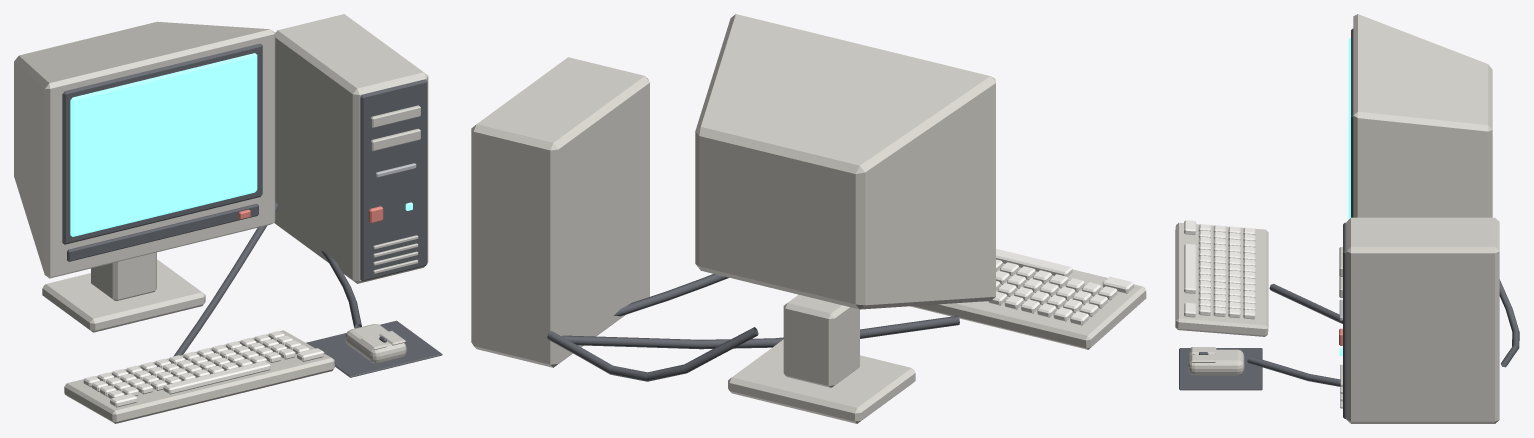
The model's file is Computer.fbx.
3 renders of one model, left to right at view 1: azimuth 30°, elevation 25°; view 2: azimuth 150°, elevation 25°; view 3: azimuth 270°, elevation 25°, orthographic. The views are drawn at different scales.
Visible parts, largest first — view 1: Monitor_Screen, Monitor_Body, Tower_Body, Tower_Front, Keyboard_Keys, Monitor_Base, Keyboard_Base, Monitor_Bezel, Mouse_Pad, Monitor_Strip, Monitor_Neck, Mouse_Body (+4 smaller); view 2: Monitor_Body, Tower_Body, Monitor_Base, Monitor_Neck, Keyboard_Keys, Keyboard_Base, Cable_Keyboard, Cable_Monitor, Cable_Mouse; view 3: Tower_Body, Monitor_Body, Keyboard_Keys, Keyboard_Base, Mouse_Pad, Mouse_Body, Tower_Front, Cable_Mouse, Cable_Monitor, Cable_Keyboard, Monitor_Bezel, Monitor_Screen.
Part boxes in pixels (x1,y1,x2,y2): Monitor_Screen: [70, 53, 257, 236]; Monitor_Body: [14, 21, 275, 278]; Tower_Body: [274, 14, 428, 283]; Tower_Front: [360, 79, 427, 281]; Keyboard_Keys: [83, 331, 324, 407]; Monitor_Base: [42, 259, 205, 332]; Keyboard_Base: [64, 330, 334, 423]; Monitor_Bezel: [62, 43, 262, 244]; Mouse_Pad: [306, 320, 442, 377]; Monitor_Strip: [67, 203, 258, 261]; Monitor_Neck: [91, 252, 156, 300]; Mouse_Body: [345, 324, 406, 363]; Monitor_Body: [695, 14, 995, 309]; Tower_Body: [471, 57, 649, 367]; Monitor_Base: [728, 339, 915, 423]; Monitor_Neck: [783, 294, 859, 387]; Keyboard_Keys: [983, 248, 1134, 325]; Keyboard_Base: [910, 263, 1146, 349]; Cable_Keyboard: [562, 315, 959, 349]; Cable_Monitor: [547, 327, 758, 381]; Cable_Mouse: [614, 274, 728, 316]; Tower_Body: [1346, 217, 1499, 423]; Monitor_Body: [1353, 14, 1492, 217]; Keyboard_Keys: [1184, 220, 1255, 319]; Keyboard_Base: [1175, 222, 1268, 336]; Mouse_Pad: [1179, 348, 1262, 390]; Mouse_Body: [1188, 349, 1244, 375]; Tower_Front: [1343, 222, 1346, 418]; Cable_Mouse: [1247, 356, 1340, 386]; Cable_Monitor: [1499, 279, 1519, 367]; Cable_Keyboard: [1269, 283, 1342, 323]; Monitor_Bezel: [1351, 28, 1353, 217]; Monitor_Screen: [1348, 37, 1350, 219].
Size of the model in its own units: 185 by 117 by 148.
